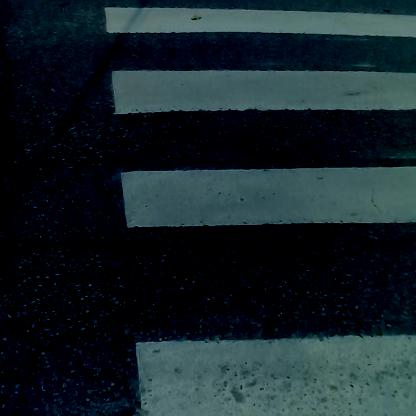crosswalk: (133, 5, 416, 397)
